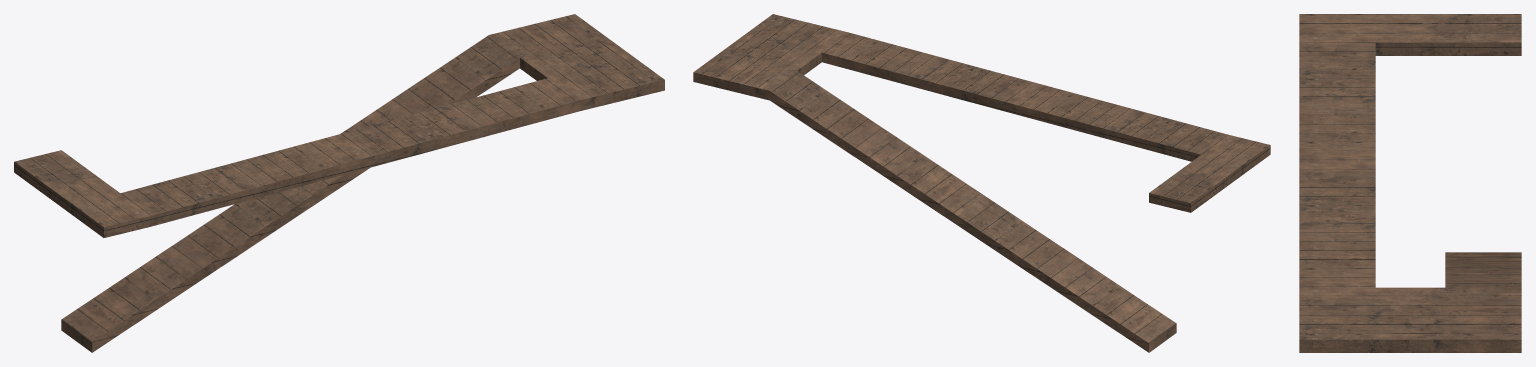
The model's file is woodramp.glb.
3 views of the same model, side by side, from view 1: azimuth 30°, elevation 25°; view 2: azimuth 150°, elevation 25°; view 3: azimuth 270°, elevation 25° (orthographic). The views are drawn at different scales.
Parts seen in each view (by area): view 1: woodramp; view 2: woodramp; view 3: woodramp.
Boxes of the visible parts, x1=… form: woodramp: x1=14, y1=14, x2=664, y2=352; woodramp: x1=693, y1=14, x2=1270, y2=352; woodramp: x1=1299, y1=14, x2=1521, y2=352.
Bounding box in the file's own units: 6.52 × 2.12 × 1.81.
1 material, 1 textured.
